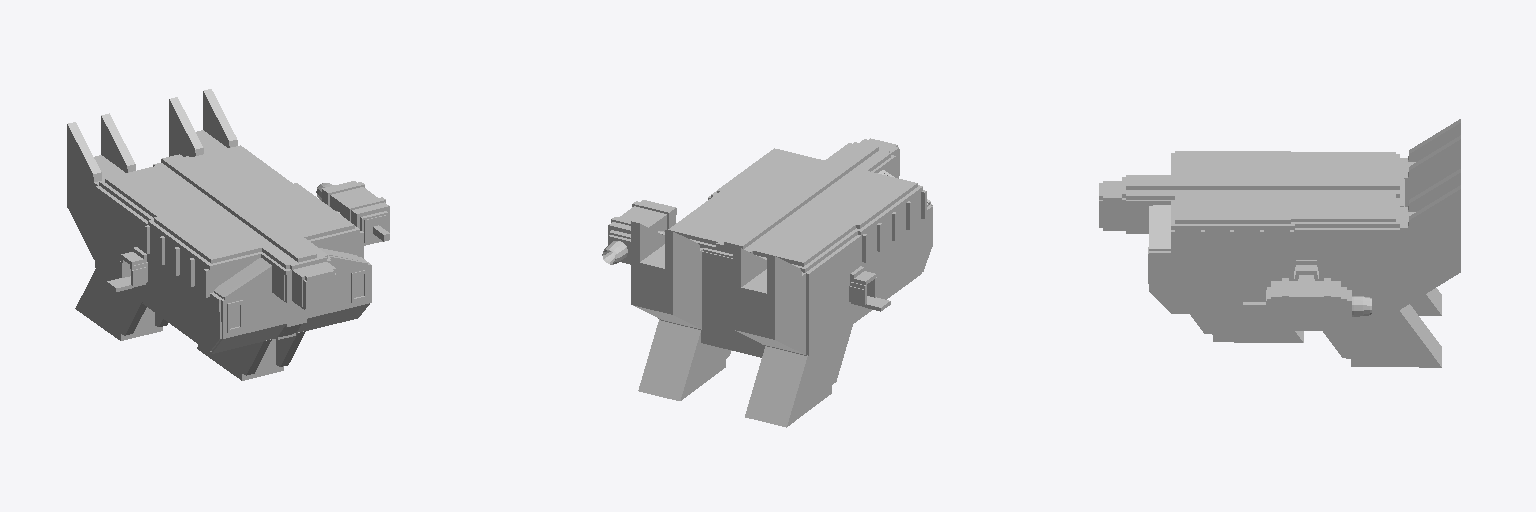
File: Ship.obj
The picture shows the model from 3 angles: view 1: azimuth 30°, elevation 25°; view 2: azimuth 150°, elevation 25°; view 3: azimuth 270°, elevation 25°; orthographic projection.
Visible parts, largest first — view 1: group[number redacted], group[number redacted], group[number redacted], group[number redacted], group[number redacted], group[number redacted], group[number redacted], group[number redacted], group[number redacted], group[number redacted], group[number redacted], group[number redacted] (+10 smaller); view 2: group[number redacted], group[number redacted], group[number redacted], group[number redacted], group[number redacted], group[number redacted], group[number redacted], group[number redacted], group[number redacted], group[number redacted], group[number redacted], group[number redacted] (+5 smaller); view 3: group[number redacted], group[number redacted], group[number redacted], group[number redacted], group[number redacted], group[number redacted], group[number redacted], group[number redacted], group[number redacted], group[number redacted], group[number redacted], group[number redacted] (+11 smaller).
Boxes of the visible parts, box(x1,y1,x2,y2) form: group[number redacted]: box(67, 113, 135, 259); group[number redacted]: box(154, 205, 264, 263); group[number redacted]: box(75, 269, 167, 340); group[number redacted]: box(243, 183, 354, 239); group[number redacted]: box(146, 255, 211, 351); group[number redacted]: box(161, 154, 316, 262); group[number redacted]: box(95, 186, 140, 298); group[number redacted]: box(169, 89, 237, 156); group[number redacted]: box(105, 166, 207, 217); group[number redacted]: box(316, 181, 389, 245); group[number redacted]: box(190, 145, 292, 195); group[number redacted]: box(197, 331, 305, 380); group[number redacted]: box(733, 246, 805, 354); group[number redacted]: box(631, 221, 703, 329); group[number redacted]: box(745, 323, 853, 427); group[number redacted]: box(638, 319, 731, 400); group[number redacted]: box(806, 242, 850, 355); group[number redacted]: box(807, 170, 917, 228); group[number redacted]: box(717, 148, 827, 203); group[number redacted]: box(724, 142, 878, 248); group[number redacted]: box(753, 212, 855, 266); group[number redacted]: box(668, 191, 769, 244); group[number redacted]: box(702, 248, 762, 344); group[number redacted]: box(860, 221, 923, 317); group[number redacted]: box(1400, 169, 1460, 309); group[number redacted]: box(1315, 228, 1399, 311); group[number redacted]: box(1170, 261, 1295, 311); group[number redacted]: box(1323, 304, 1441, 367); group[number redacted]: box(1243, 278, 1371, 333); group[number redacted]: box(1126, 177, 1399, 189); group[number redacted]: box(1175, 194, 1290, 223); group[number redacted]: box(1175, 151, 1290, 176); group[number redacted]: box(1291, 194, 1395, 221); group[number redacted]: box(1400, 119, 1460, 206); group[number redacted]: box(1291, 152, 1395, 176); group[number redacted]: box(1190, 314, 1303, 342).
Bounding box in the file's own units: 2.85 × 1.87 × 3.42.